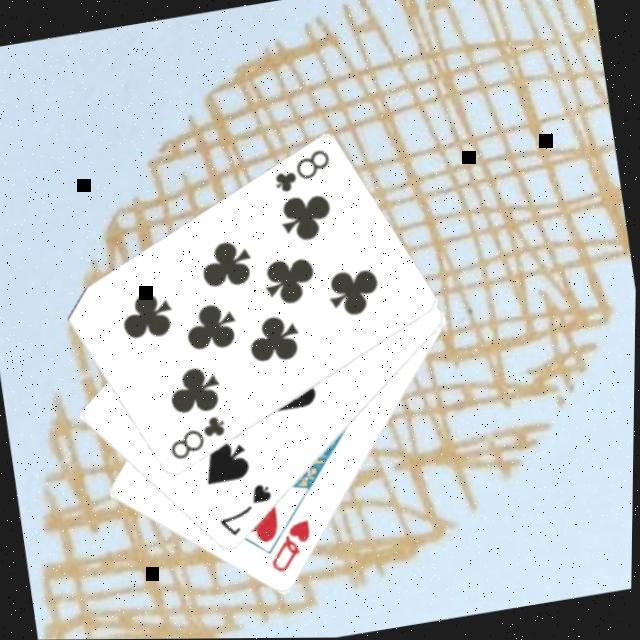7S: (213, 478, 283, 541)
8C: (164, 411, 235, 464), (268, 144, 338, 197)
QH: (264, 516, 323, 577)
